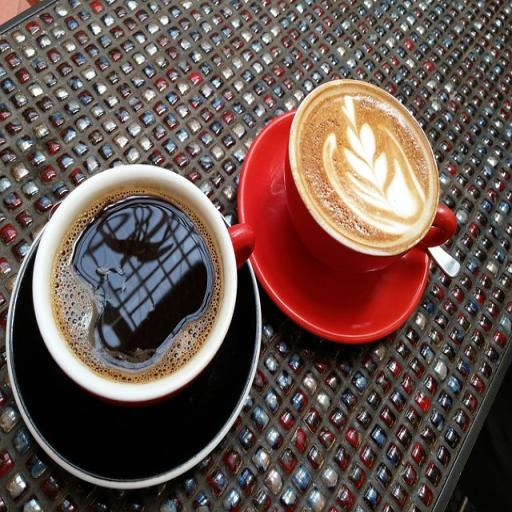cup: (286, 78, 458, 278)
